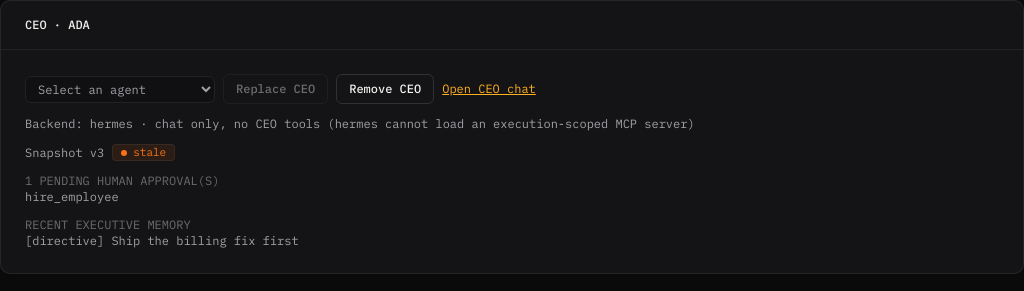
CeoControlPanel › replaces the CEO with the selected agent
The width and height of the screenshot is (1024, 291).
Expected: the text with test id "ceo-backend" is shown, 25,116 -> 695,131
Select "Bo (Engineering Lead)" in the dropdown named "CEO agent": coordinates (120, 89) 25,76 -> 215,102
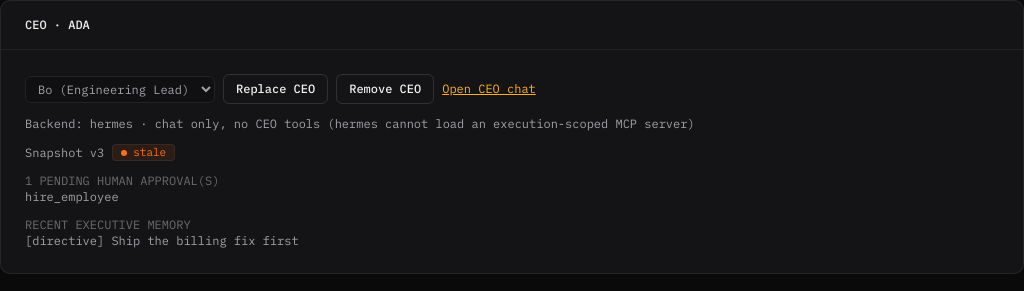
Click the button "Replace CEO": coordinates (276, 89) 223,74 -> 328,104
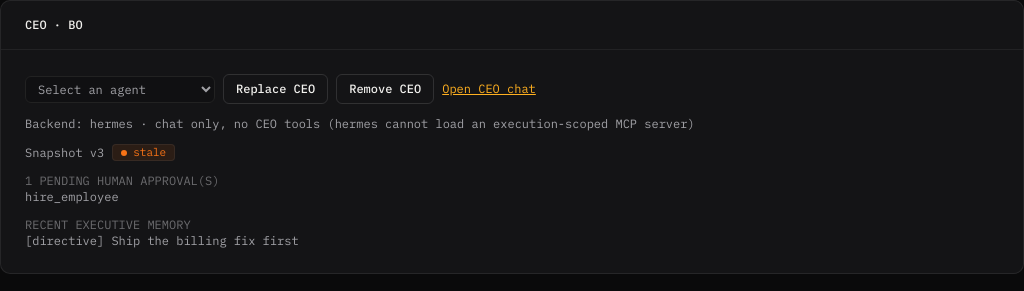
Expected: the text "CEO · Bo" is shown, 25,17 -> 83,33
